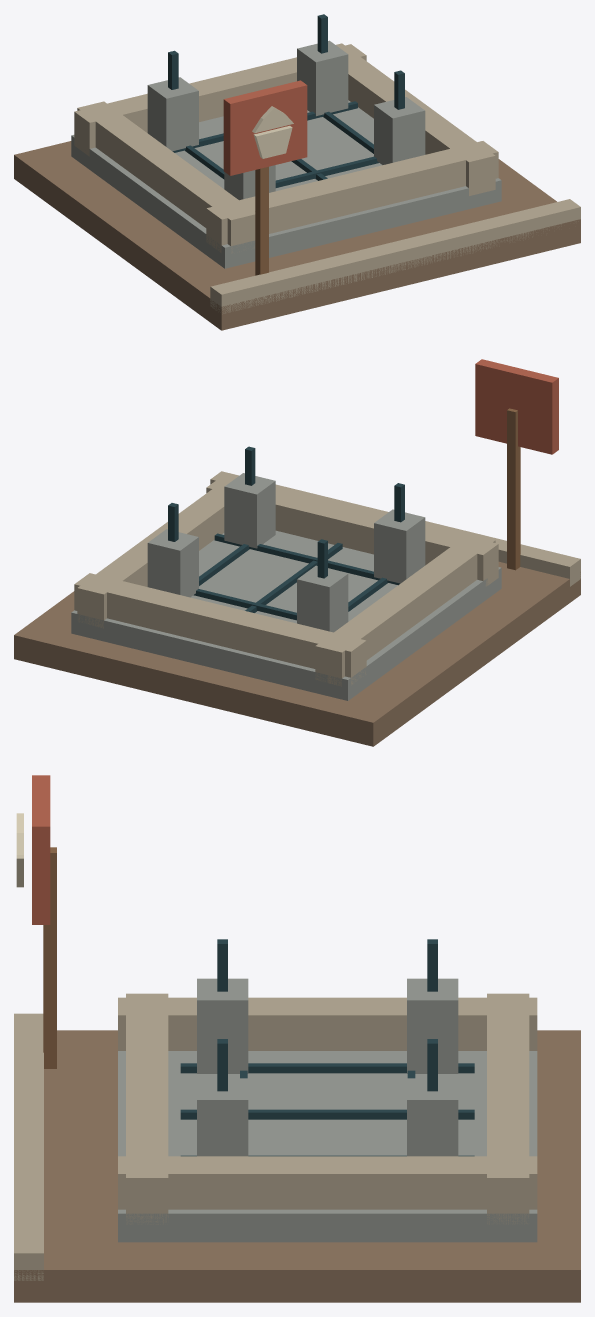
The model's file is patisserie-foundation.glb.
3 renders of one model, top to bottom at view 1: azimuth 30°, elevation 25°; view 2: azimuth 150°, elevation 25°; view 3: azimuth 270°, elevation 25°, orthographic. The views are drawn at different scales.
Parts seen in each view (by area): view 1: patisserie; view 2: patisserie; view 3: patisserie.
Part boxes in pixels (x1,y1,x2,y2): patisserie: (14,14,580,330); patisserie: (14,359,580,746); patisserie: (14,775,580,1302).
Bounding box in the file's own units: 1.88 × 1.09 × 1.88.
